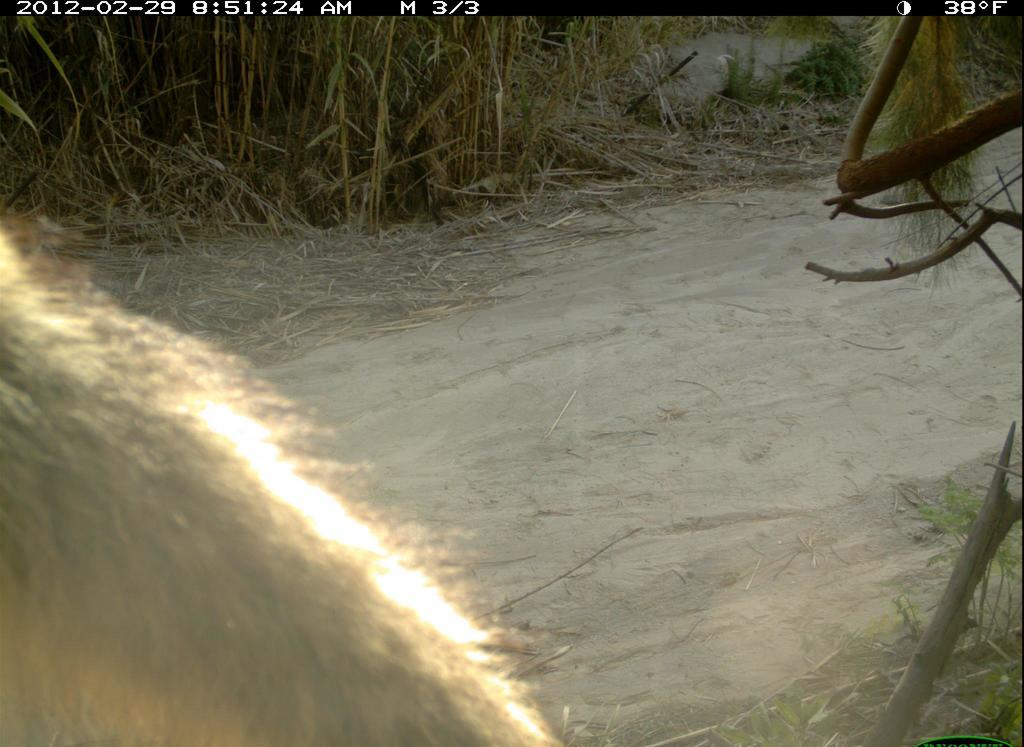coyote: (6, 181, 597, 745)
